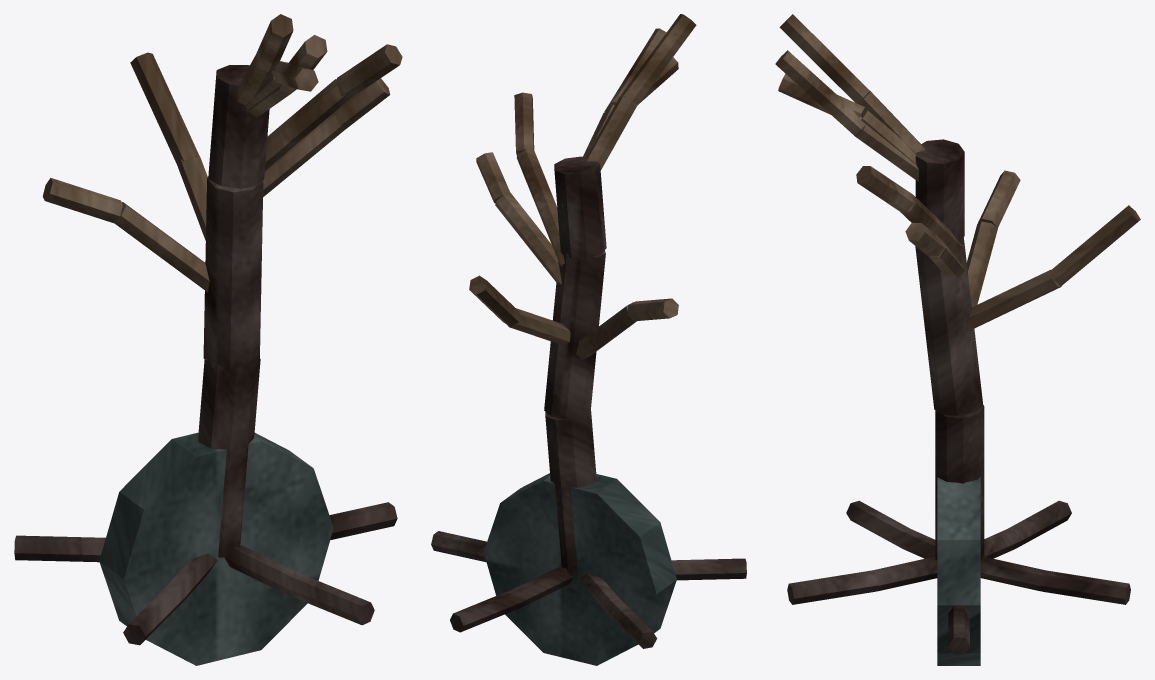
The model's file is 0130_dead_tree_05.glb.
The picture shows the model from 3 angles, left to right: view 1: azimuth 30°, elevation 25°; view 2: azimuth 150°, elevation 25°; view 3: azimuth 270°, elevation 25°; orthographic projection. The views are drawn at different scales.
Visible parts, largest first — view 1: stone_dark, wood_dark, wood; view 2: stone_dark, wood_dark, wood; view 3: wood_dark, wood, stone_dark.
Boxes of the visible parts, x1,y1,x2,y2 form: stone_dark: (99,432,333,665); wood_dark: (14,65,397,645); wood: (42,14,402,292); stone_dark: (483,473,676,665); wood_dark: (431,156,746,648); wood: (469,14,696,360); wood_dark: (787,139,1130,654); wood: (775,14,1140,328); stone_dark: (937,477,980,665).
Size of the model in its own units: 1.66 by 3.5 by 1.86.
3 materials, 3 textured.
